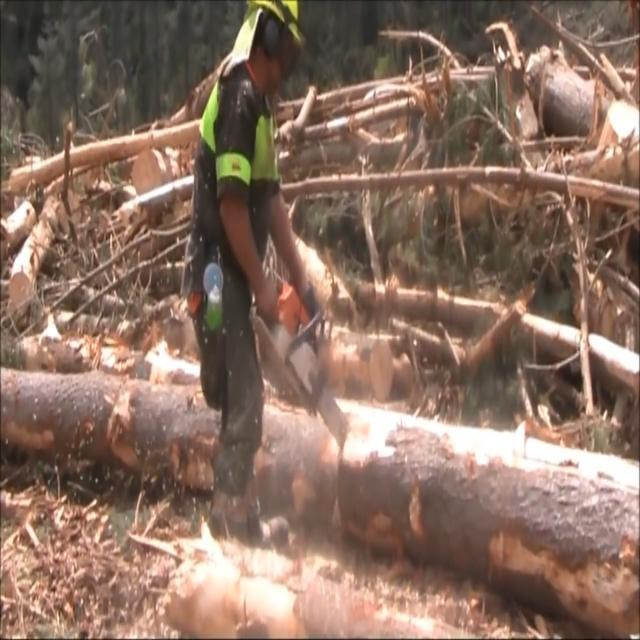Chainsaw: (234, 255, 358, 460)
